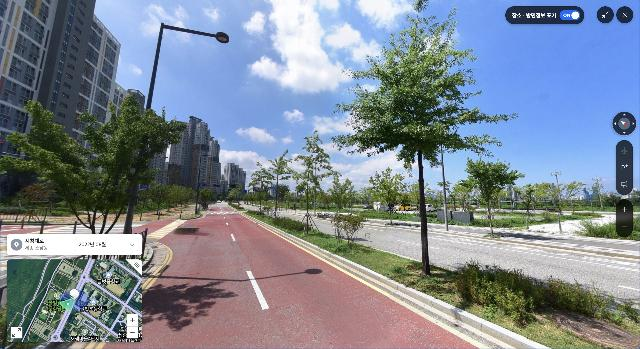other: (331, 0, 520, 276), (0, 100, 129, 235), (79, 94, 188, 239), (286, 130, 341, 235), (458, 157, 524, 236), (257, 149, 296, 226), (367, 171, 407, 226), (502, 182, 544, 229), (538, 184, 570, 231), (248, 163, 276, 215), (327, 181, 356, 219), (570, 185, 600, 221), (148, 182, 172, 222), (167, 185, 184, 218)
